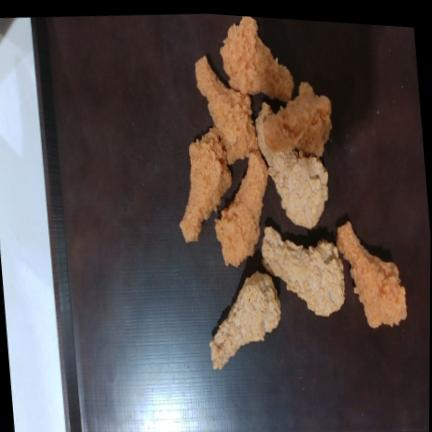chicken: (257, 104, 328, 228), (262, 227, 345, 316), (337, 222, 406, 327), (210, 272, 281, 369), (195, 56, 257, 163), (220, 16, 294, 102), (215, 151, 268, 266), (180, 128, 231, 241), (265, 82, 332, 156)
